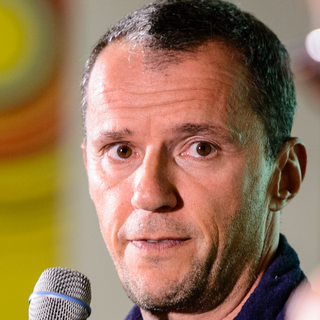eye: (181, 136, 224, 162), (97, 139, 138, 164)
